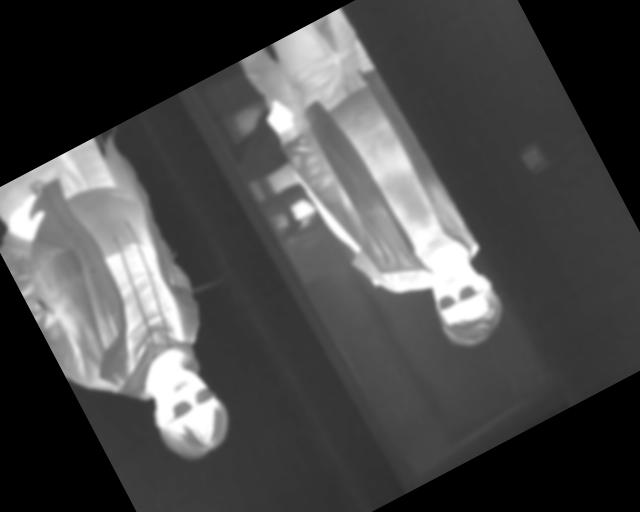face: (135, 357, 241, 473), (416, 244, 512, 351)
